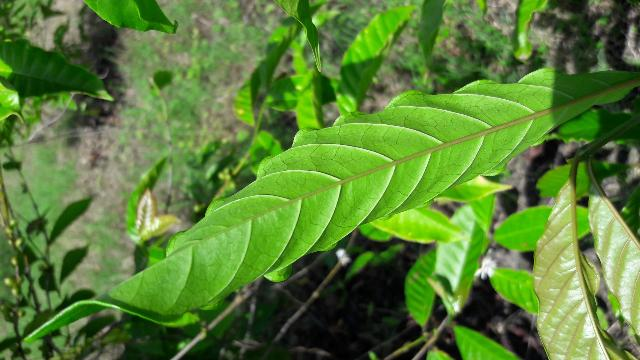healthy: (27, 68, 635, 333)
